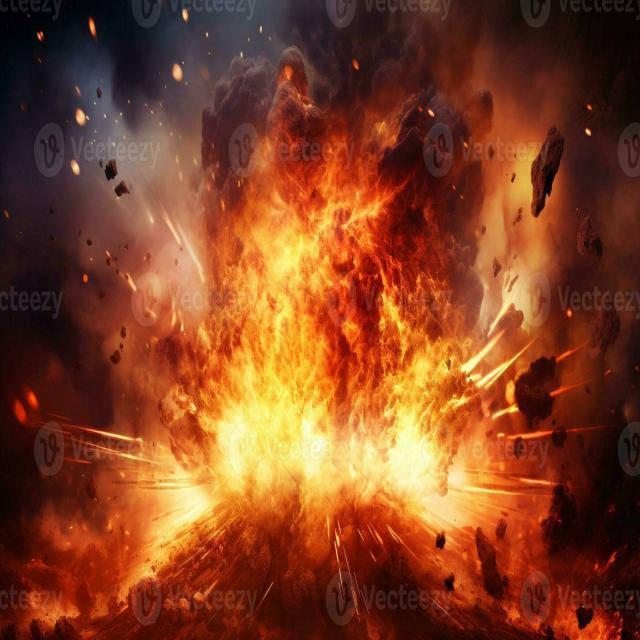fire: (175, 195, 471, 524)
